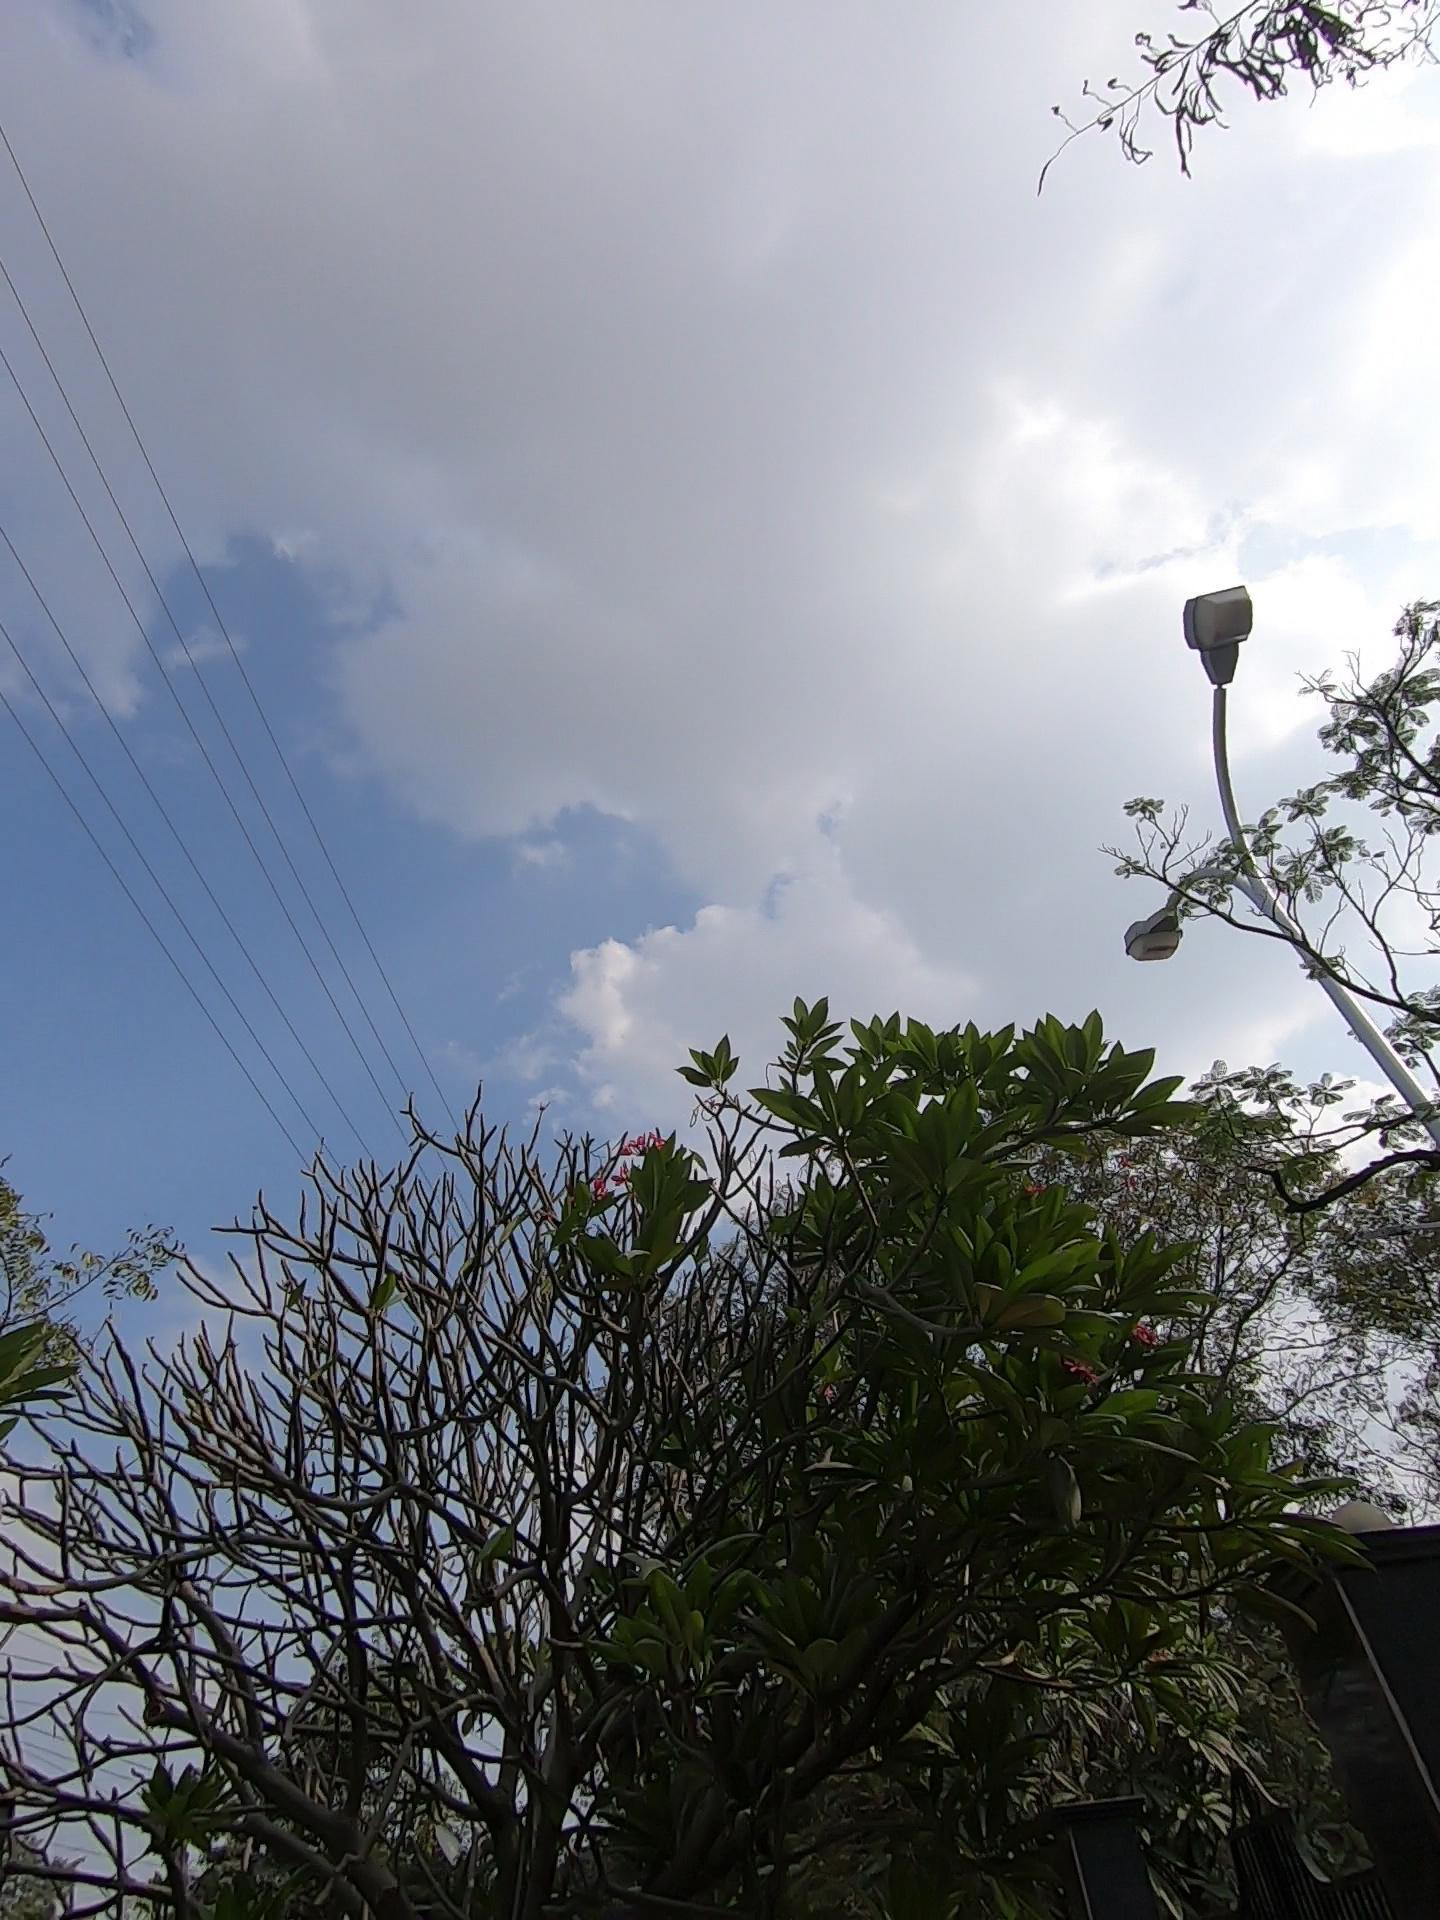off: (1015, 550, 1331, 1123)
